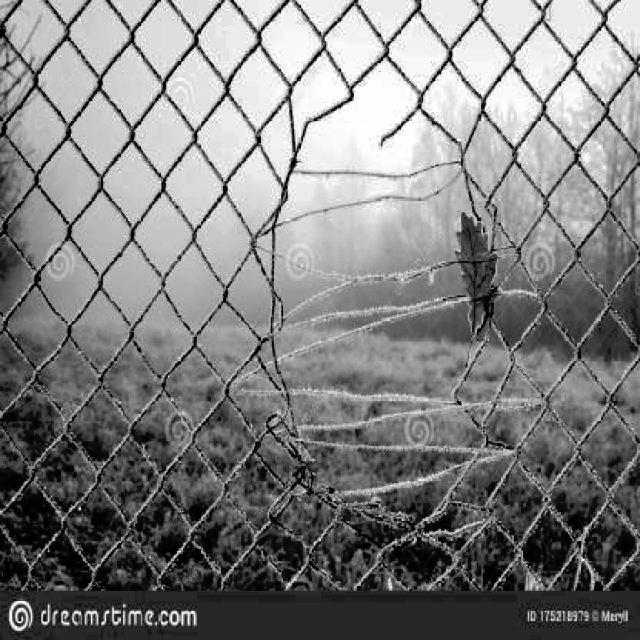anomaly-fence: (216, 83, 525, 527)
